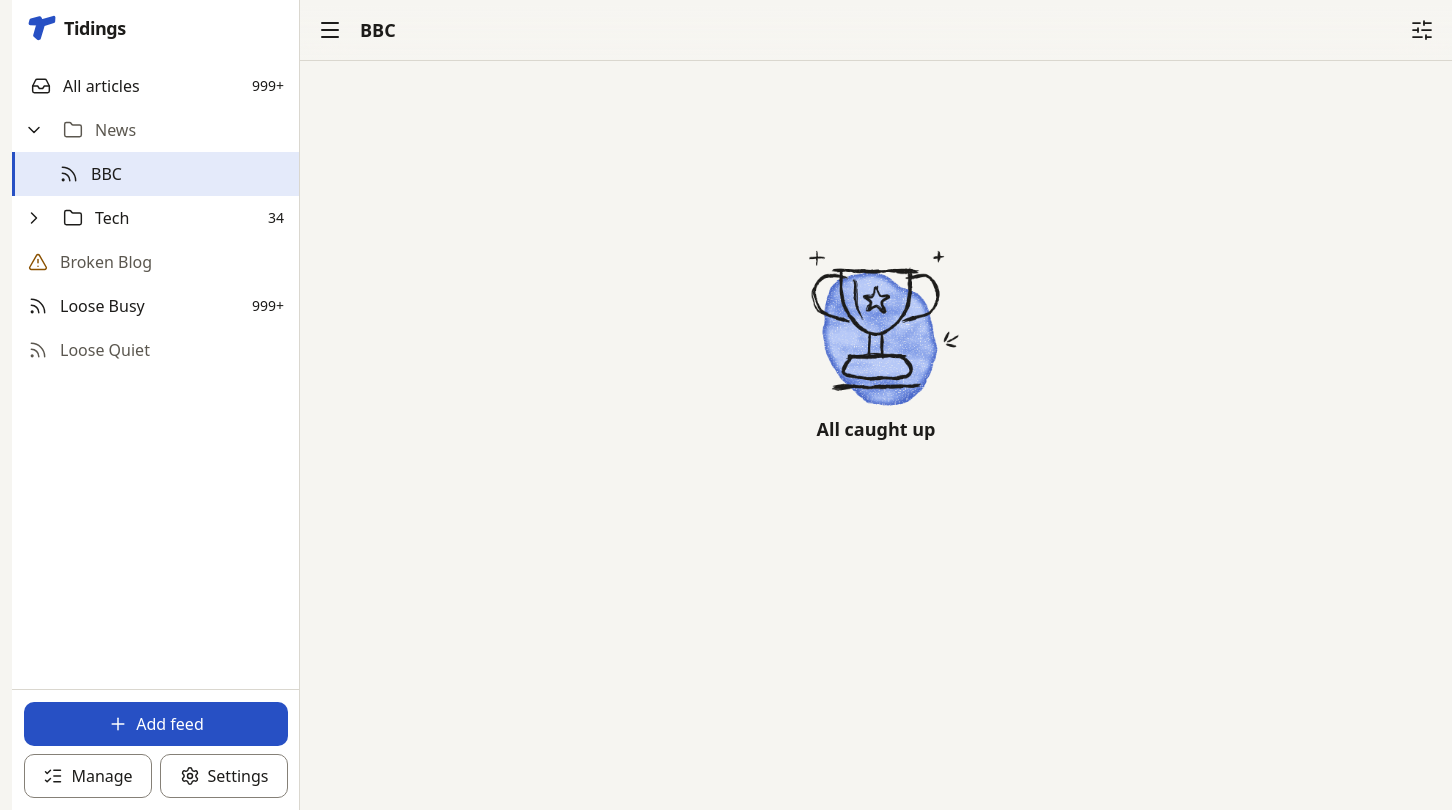
Test case: AC6: the drawer › expands a folder with its chevron, remembers it, and opens the folder holding the current feed
The image size is (1452, 810).
Expected: the link "Ars" is not shown
Click the button named "Expand Tech" at (34, 218), box [12,196,56,240]
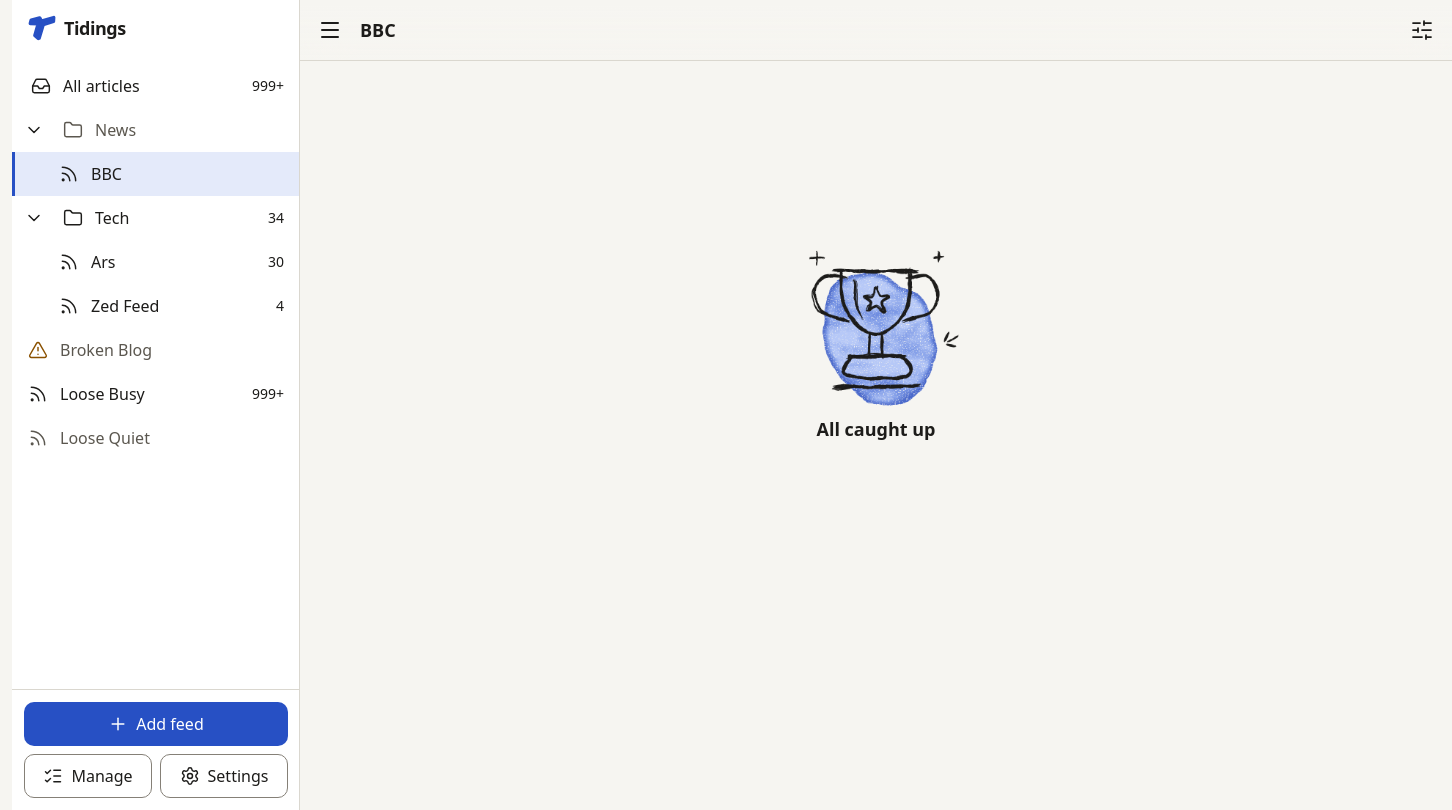
Expected: the link named "Ars 30 unread" is shown, [59,251,300,273]
Expected: the button named "Collapse Tech" is expanded, [12,196,56,240]
